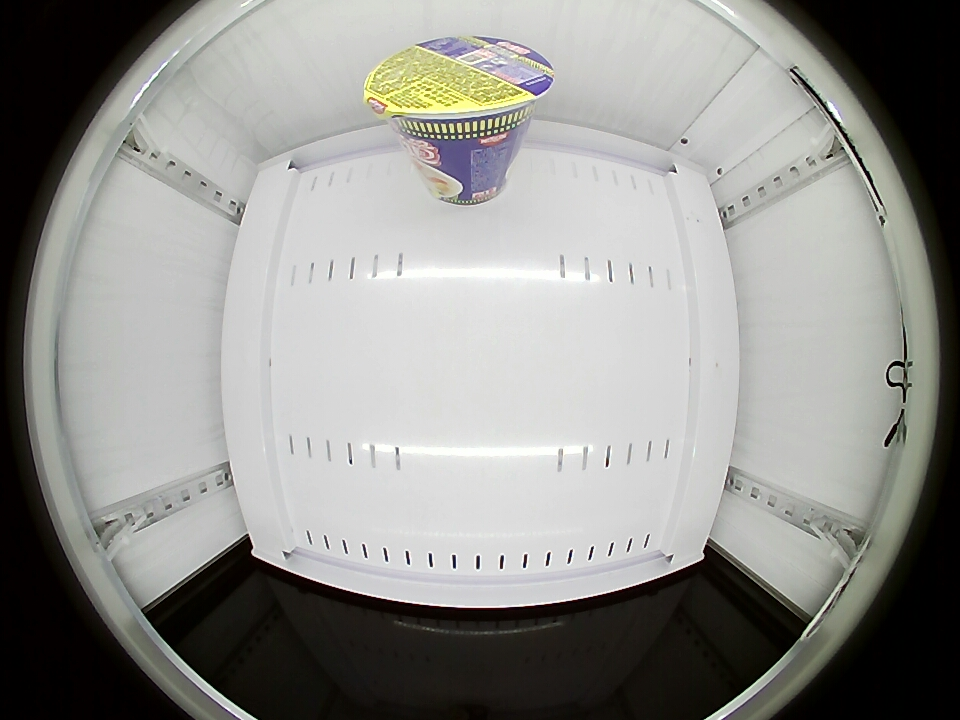heweidao: (364, 36, 554, 150)
